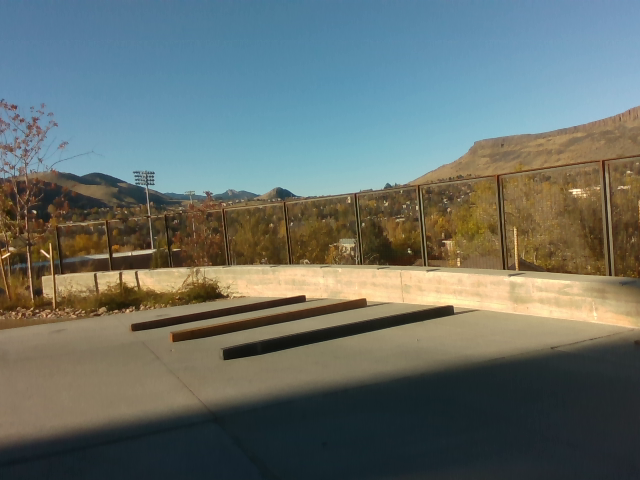dunnage: (125, 269, 475, 368)
